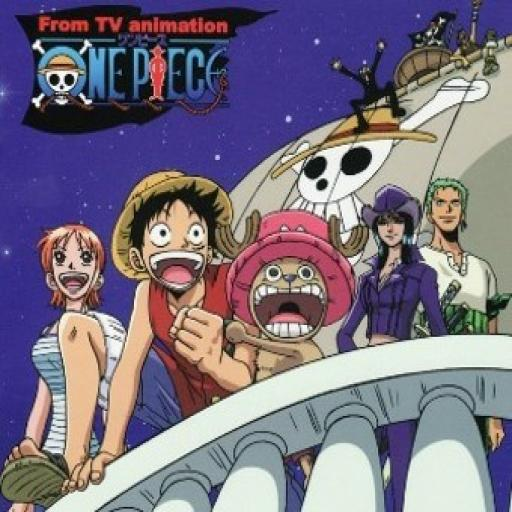Luffy: (119, 163, 232, 299)
Nami: (33, 212, 119, 312)
NicoRobin: (352, 168, 429, 258)
Zoro: (420, 174, 480, 250)
